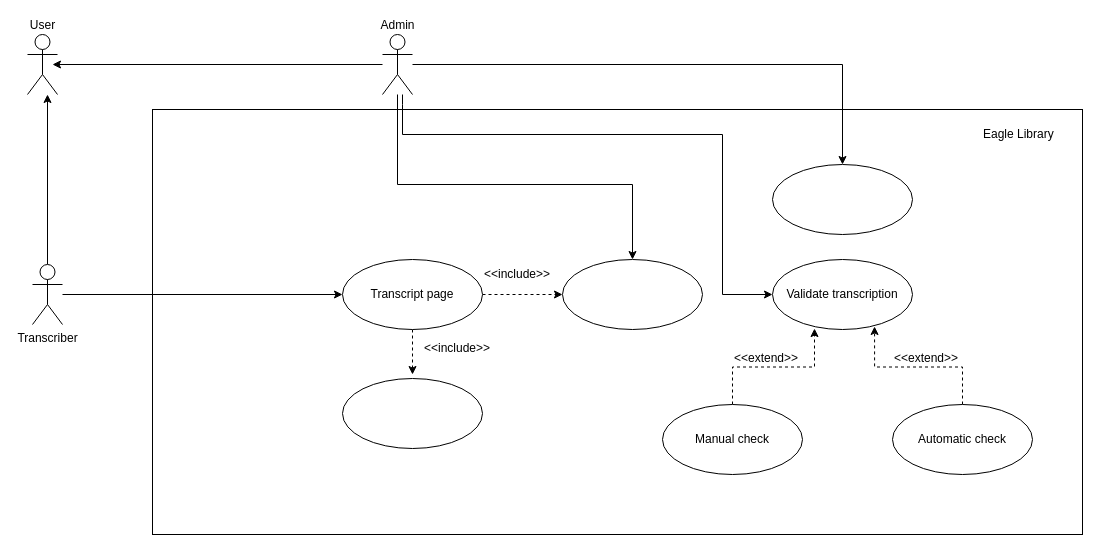
Image size: 1100x552. Some labels were removed from this diagram. The shapes that lost their labels are listed below. From the top down, each one's box as (x1, y1, x2, y2) in pixels, then its label:
(772, 164, 912, 234): Publish transcription
(562, 258, 702, 330): Assing part of literalWork
(342, 378, 482, 448): Submit text in editor TEI
